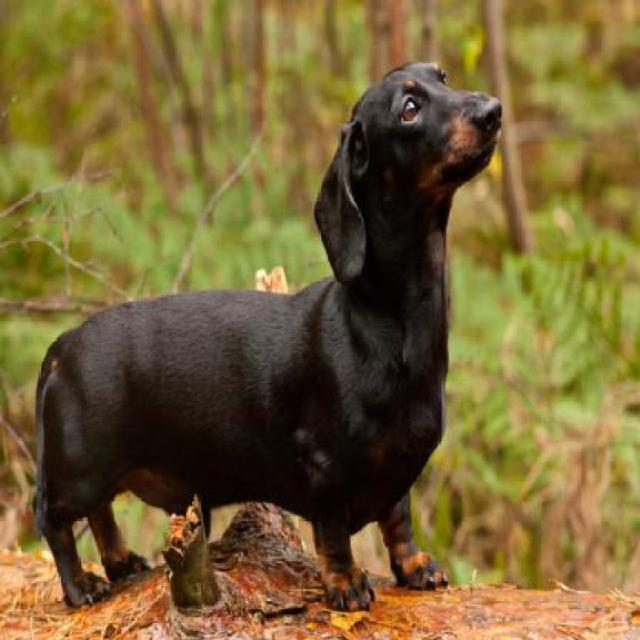Dog: (29, 60, 508, 622)
